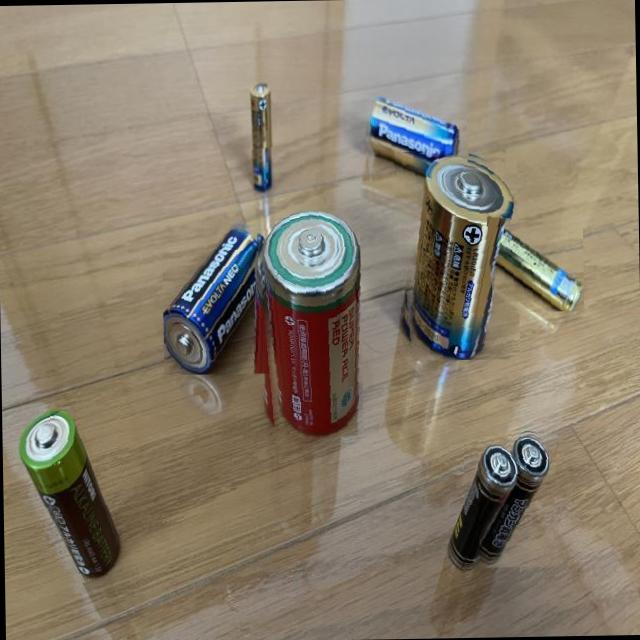Hazard: (394, 149, 520, 361), (254, 208, 363, 446), (16, 404, 122, 584), (162, 219, 278, 375), (441, 438, 522, 585), (478, 427, 560, 568), (359, 86, 468, 182), (486, 214, 584, 312), (248, 81, 274, 197)
